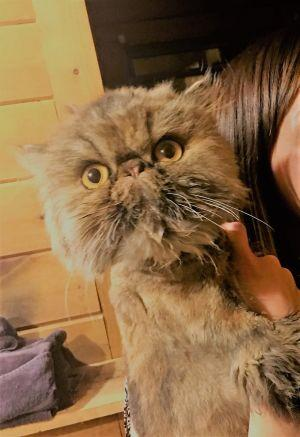persian: (6, 68, 263, 277)
